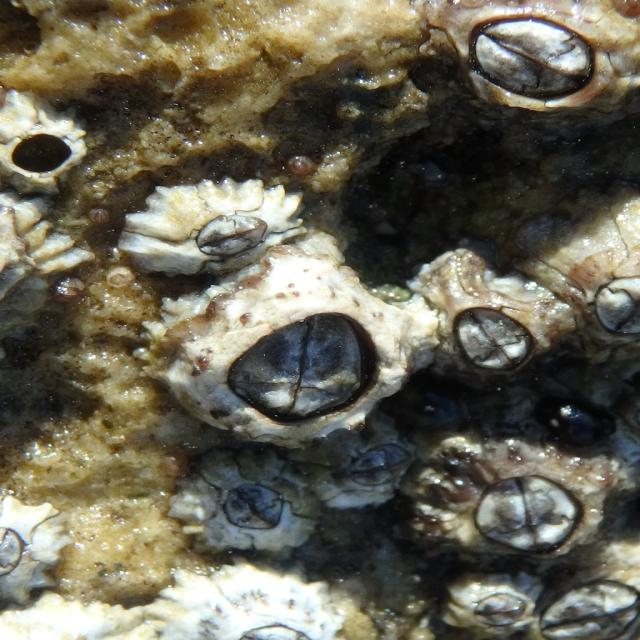barnacles: (145, 260, 403, 445), (434, 0, 632, 138), (430, 447, 616, 568), (414, 250, 559, 389), (114, 173, 313, 273), (550, 193, 640, 385), (168, 448, 320, 556), (0, 97, 87, 195), (317, 438, 414, 516), (441, 575, 534, 640)
